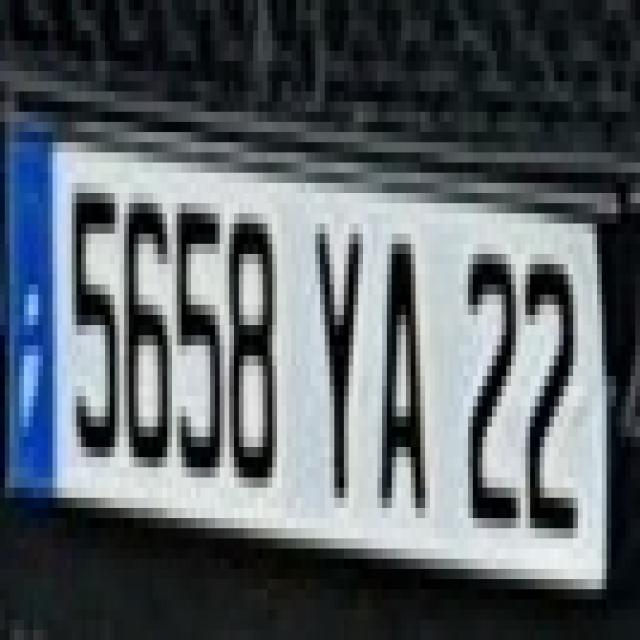EU: (10, 135, 611, 579)
France: (5, 148, 56, 499)
